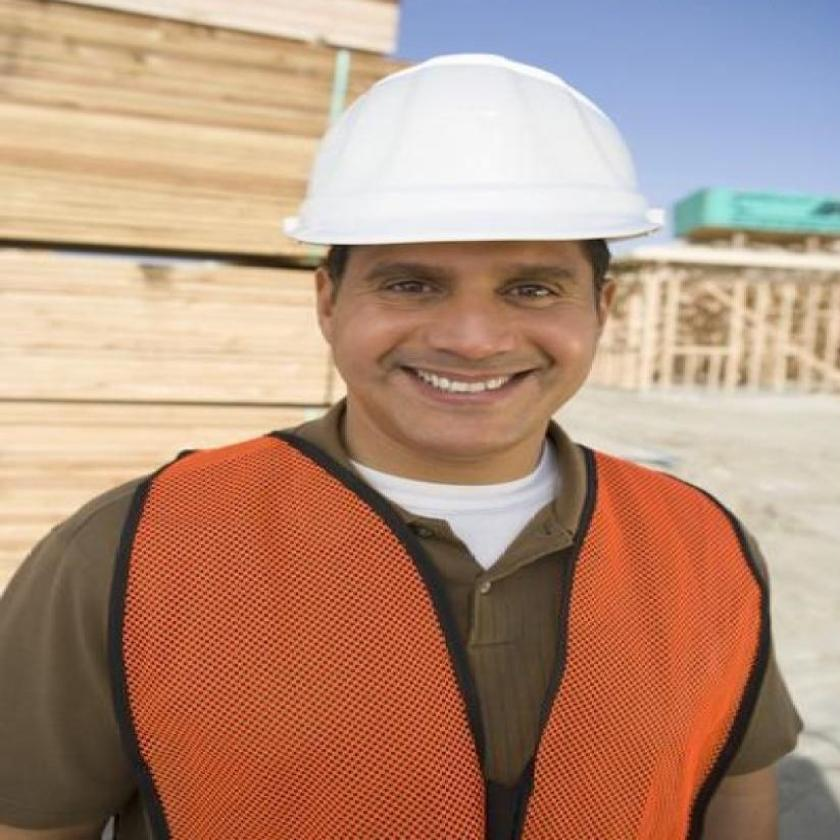Con_casco: (273, 54, 664, 435)
